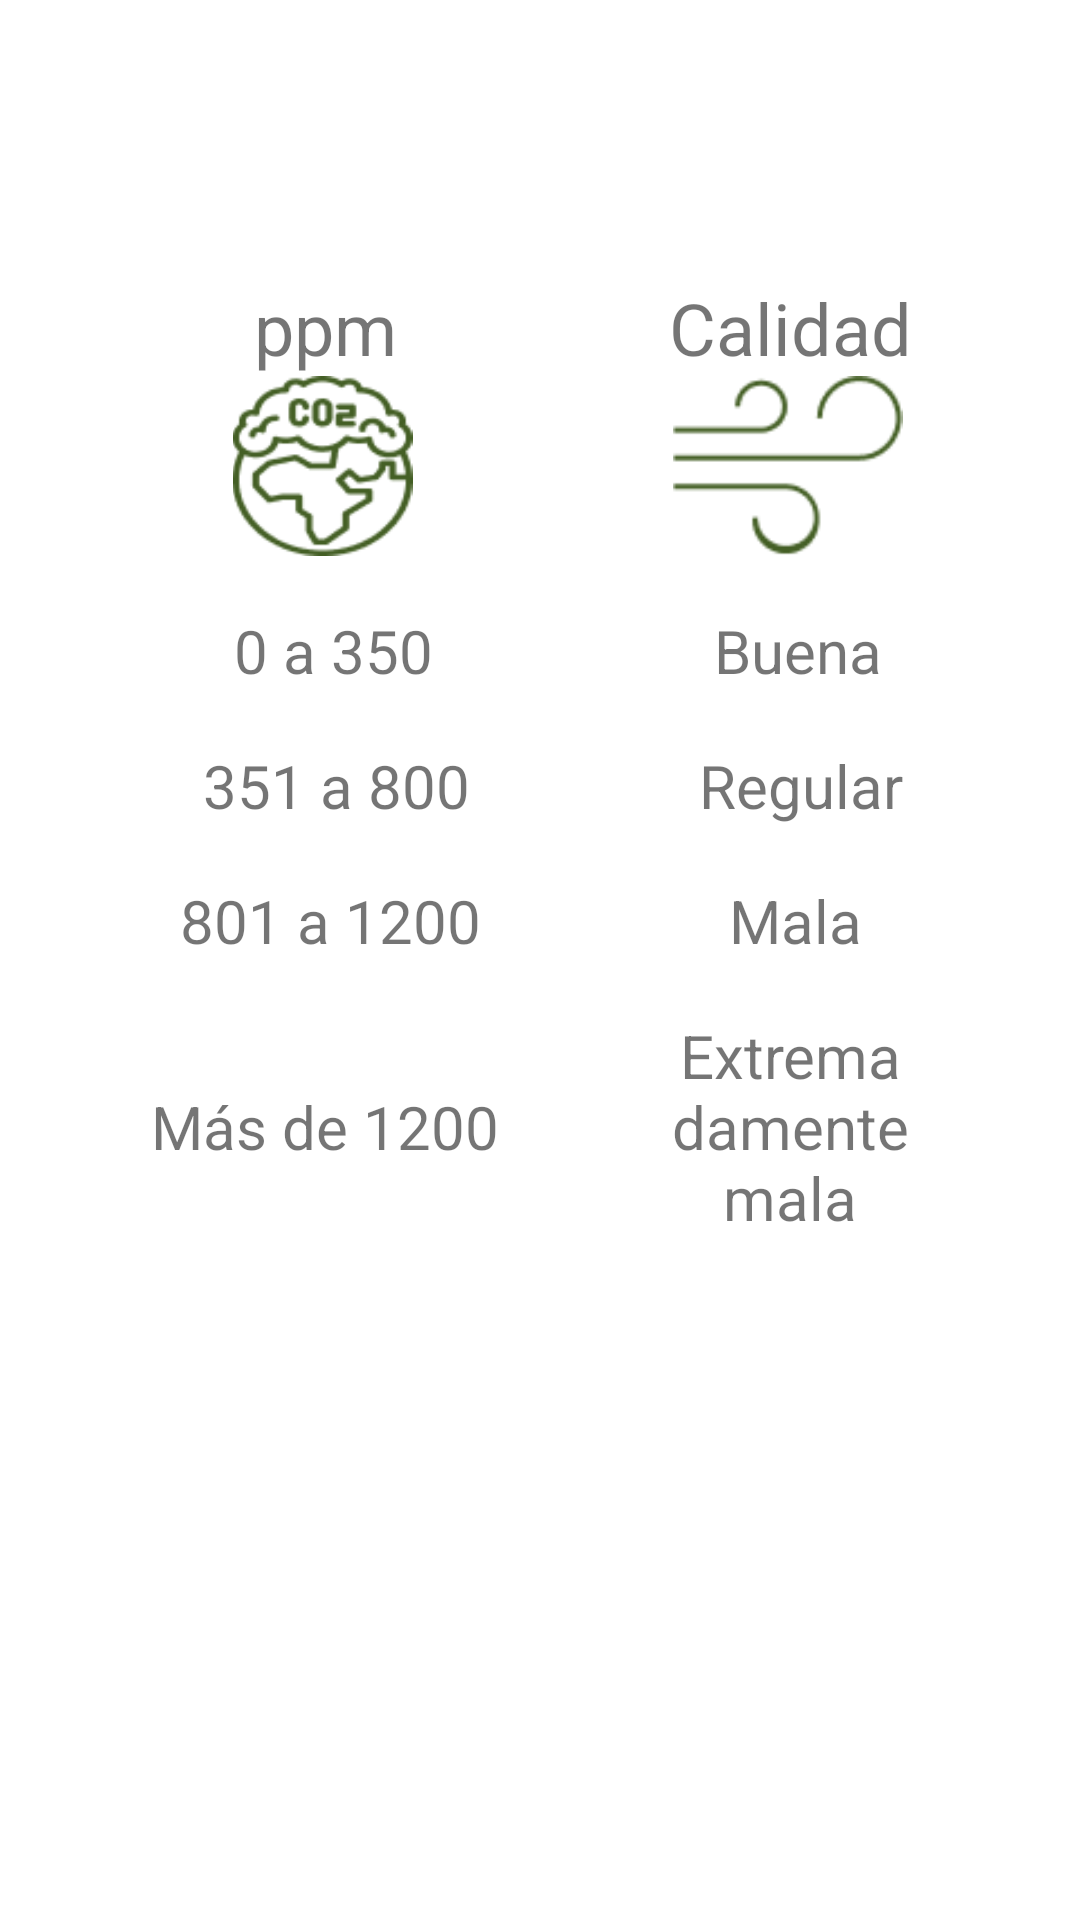

Icon click points for this 1080x1920 phone screenshot, format (x=x, y=y):
air: (x=788, y=465)
